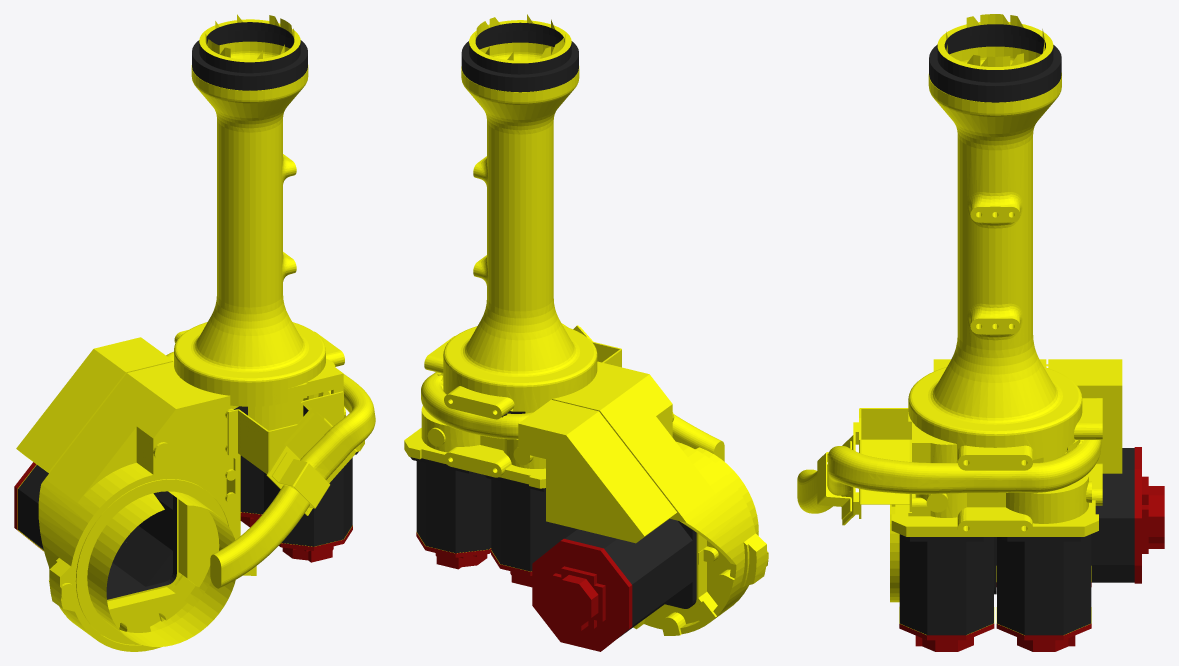
3 views of the same model, side by side, from view 1: azimuth 30°, elevation 25°; view 2: azimuth 150°, elevation 25°; view 3: azimuth 270°, elevation 25° (orthographic). The views are drawn at different scales.
Visible parts, largest first — view 1: node; view 2: node; view 3: node.
Part boxes in pixels (box(x1,y1,x2,y2)): node: box(14, 14, 375, 651); node: box(404, 14, 768, 651); node: box(797, 14, 1164, 651).
Size of the model in its own units: 538 by 987 by 506.
